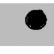correct: (25, 7, 47, 30)
